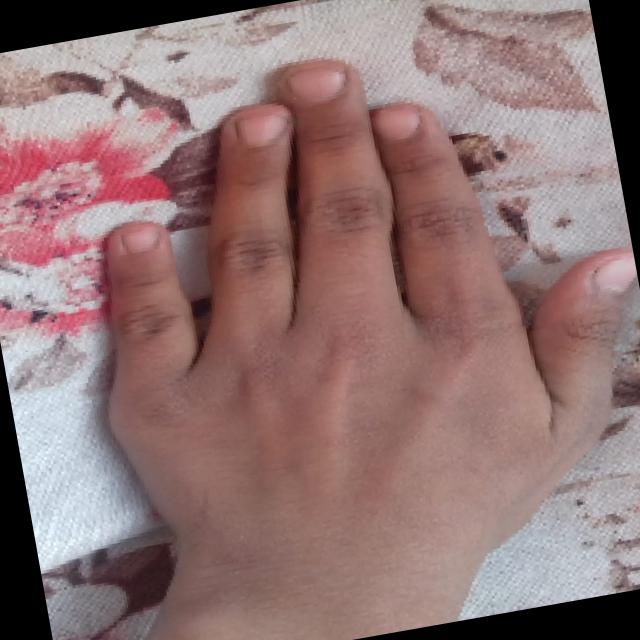Nail: (289, 67, 343, 102), (593, 251, 637, 293), (371, 103, 420, 140), (235, 113, 287, 146), (122, 223, 159, 253)
